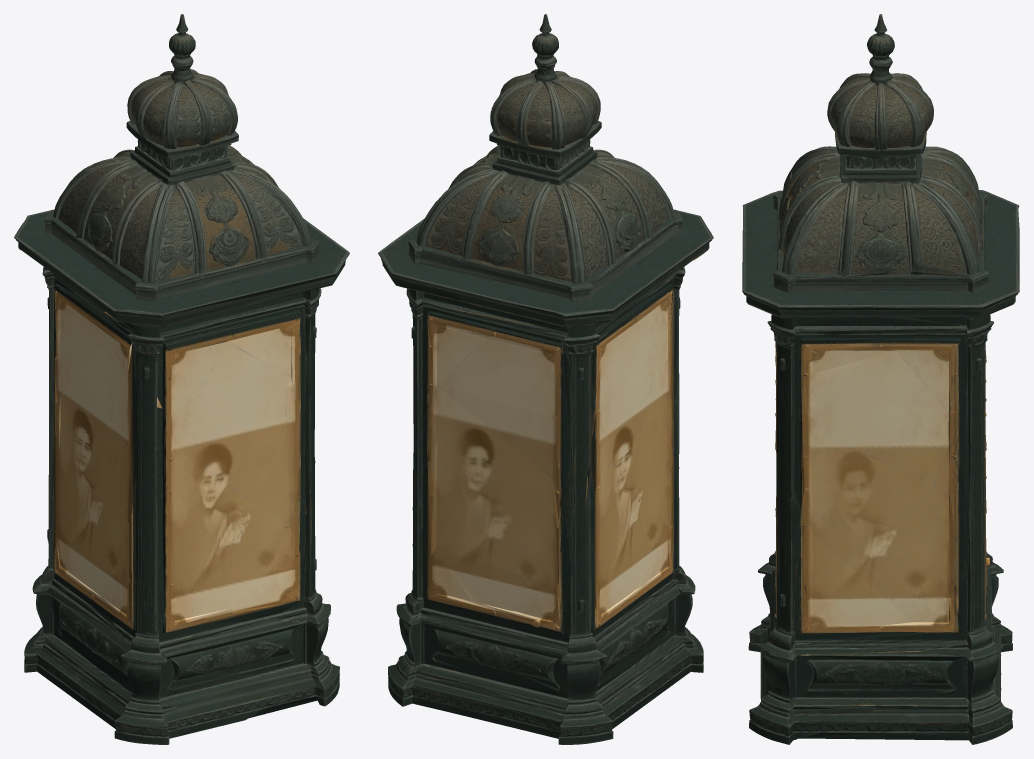
Rendered from morris_column.glb.
3 renders of one model, left to right at view 1: azimuth 30°, elevation 25°; view 2: azimuth 150°, elevation 25°; view 3: azimuth 270°, elevation 25°, orthographic.
Bounding box in the file's own units: 0.7078 × 1.9 × 0.7085.
1 material, 1 textured.
